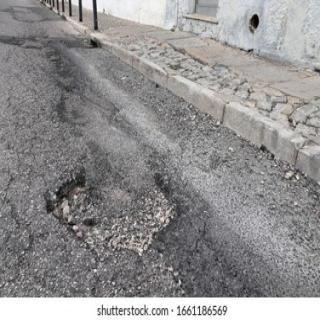pothole: (46, 173, 188, 259)
